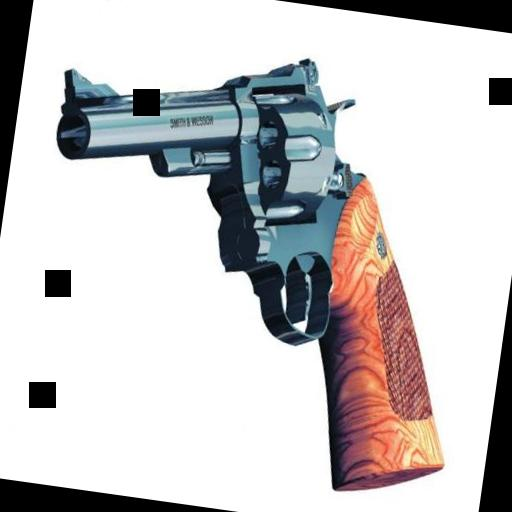Handgun: (6, 23, 492, 508)
